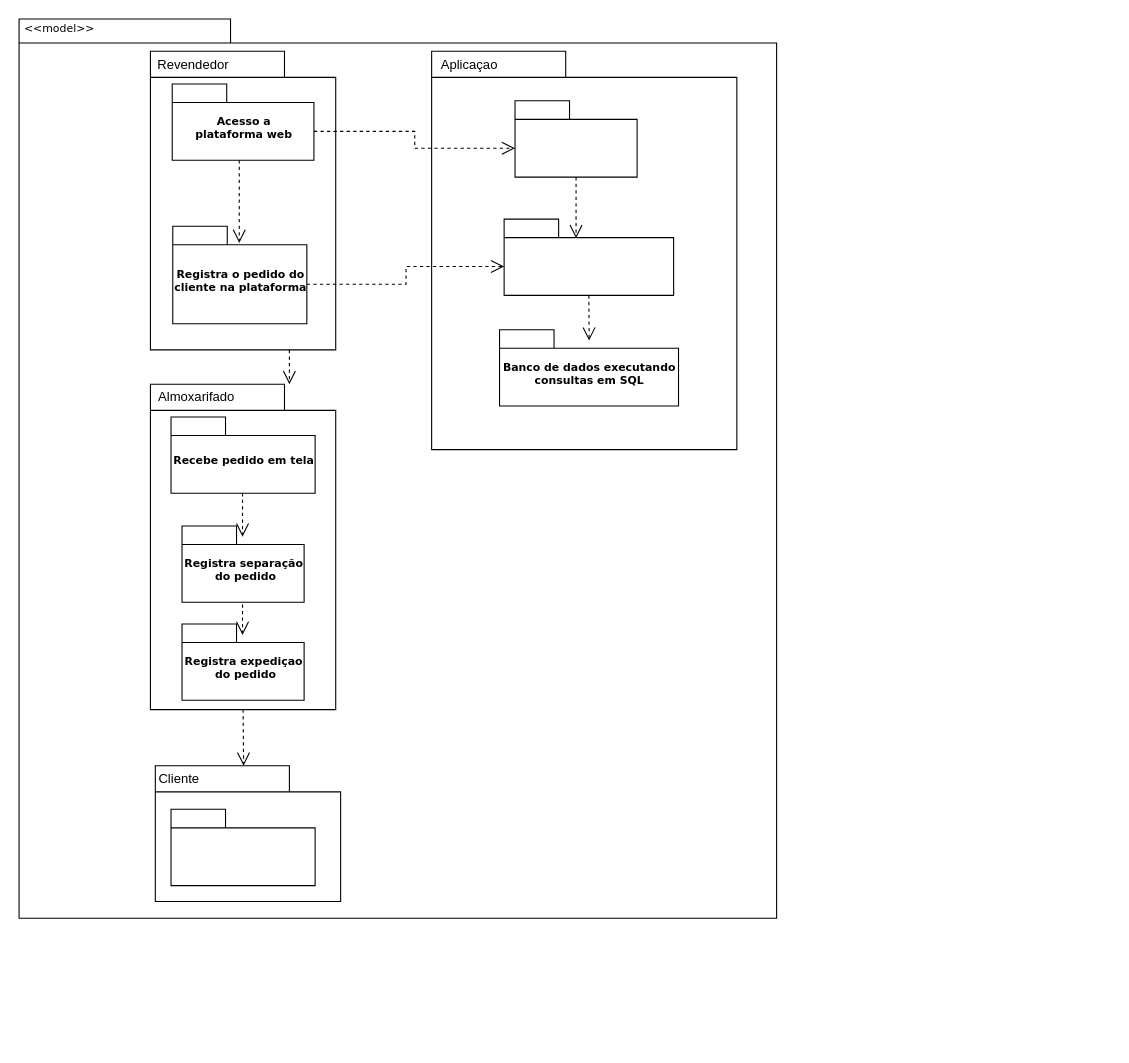
Image size: 1129x1063. Some labels were removed from this diagram. The shapes that lost their labels are listed below. From the top down, each one's centre as x and y in pixels, then its label:
At (x=575, y=138): "Framework (WEB)".
At (x=588, y=256): "Regras de negócio pré registradas (registro das peças e estoque)".
At (x=242, y=847): "Recebe e-mail com dados do pedido".
